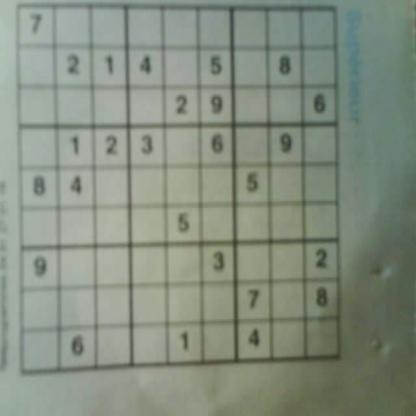sudoku: (15, 0, 344, 384)
